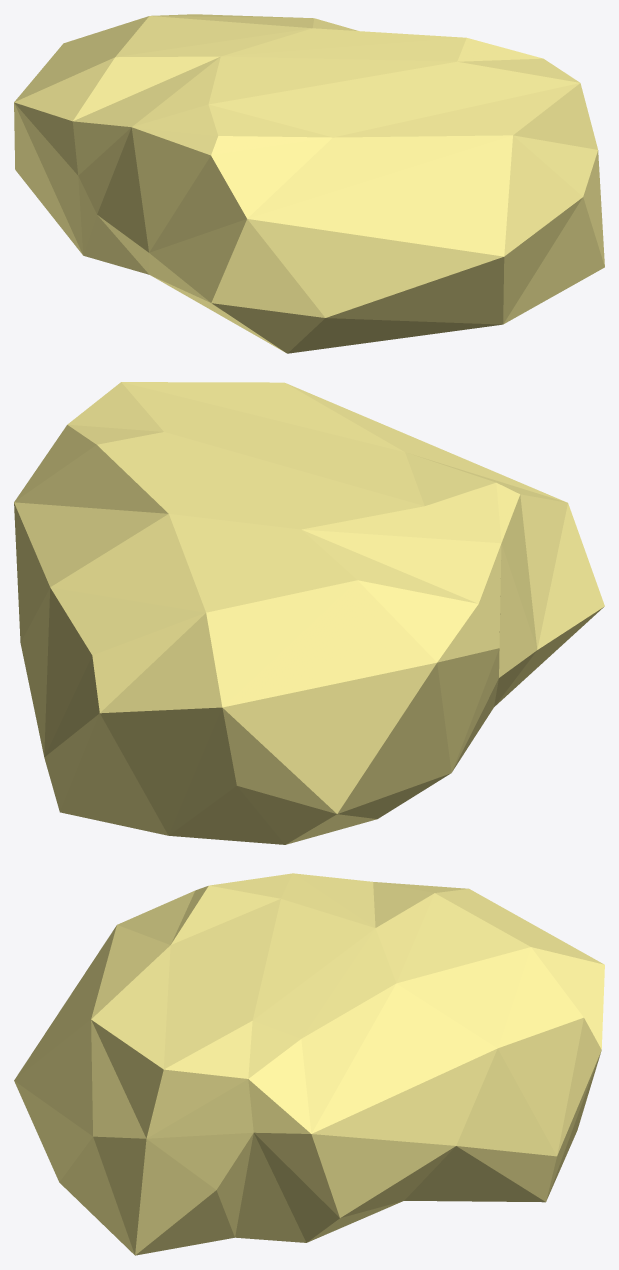
The model's file is Hill_004.glb.
The picture shows the model from 3 angles, top to bottom: view 1: azimuth 30°, elevation 25°; view 2: azimuth 150°, elevation 25°; view 3: azimuth 270°, elevation 25°; orthographic projection. The views are drawn at different scales.
Visible parts, largest first — view 1: Hill_004; view 2: Hill_004; view 3: Hill_004.
Part boxes in pixels (x1,y1,x2,y2): Hill_004: (14,14,604,353); Hill_004: (14,382,604,844); Hill_004: (14,873,604,1255).
Bounding box in the file's own units: 0.5686 × 0.2607 × 0.6522.
1 material, 1 textured.
